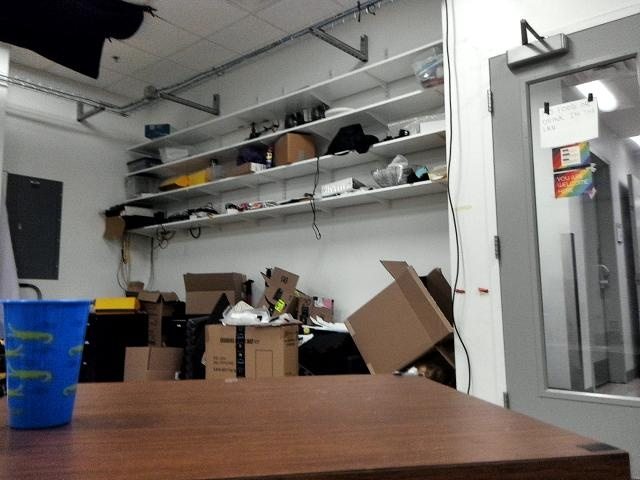water_cup: (1, 292, 96, 436)
